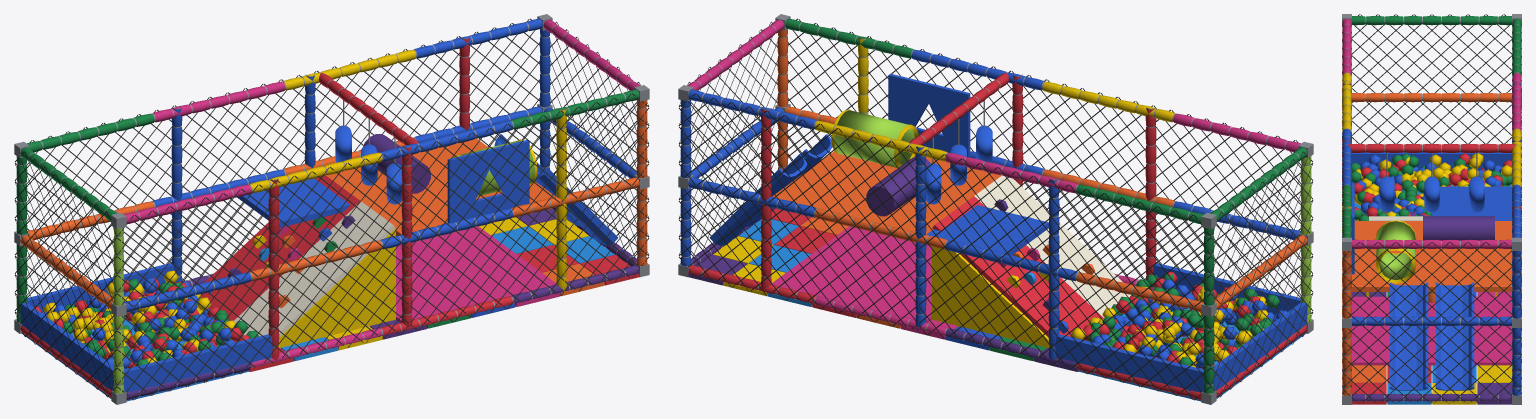
The picture shows the model from 3 angles, left to right: view 1: azimuth 30°, elevation 25°; view 2: azimuth 150°, elevation 25°; view 3: azimuth 270°, elevation 25°; orthographic projection. The views are drawn at different scales.
Visible parts, largest first — view 1: plataforma, vinil_tubo, rede, bolinhas, tatame, metal, escorregador_plastico; view 2: plataforma, vinil_tubo, rede, bolinhas, tatame, metal, escorregador_plastico; view 3: plataforma, vinil_tubo, rede, escorregador_plastico, bolinhas, tatame, metal.
Part boxes in pixels (x1,y1,x2,y2): plataforma: [17, 125, 555, 401]; vinil_tubo: [16, 18, 647, 399]; rede: [14, 18, 649, 400]; bolinhas: [33, 270, 258, 369]; tatame: [164, 208, 639, 371]; metal: [14, 14, 649, 404]; escorregador_plastico: [209, 134, 618, 308]; plataforma: [772, 73, 1310, 401]; vinil_tubo: [680, 18, 1311, 399]; rede: [678, 18, 1313, 400]; bolinhas: [1071, 271, 1287, 369]; tatame: [688, 208, 1131, 371]; metal: [678, 14, 1313, 404]; escorregador_plastico: [709, 134, 1094, 333]; plataforma: [1351, 152, 1512, 365]; vinil_tubo: [1342, 16, 1521, 402]; rede: [1342, 14, 1521, 403]; escorregador_plastico: [1389, 211, 1474, 390]; bolinhas: [1352, 153, 1511, 220]; tatame: [1351, 292, 1512, 404]; metal: [1342, 14, 1521, 404].
Size of the model in its own units: 6 by 2 by 2.
Materials: 7 (6 with a texture image).
